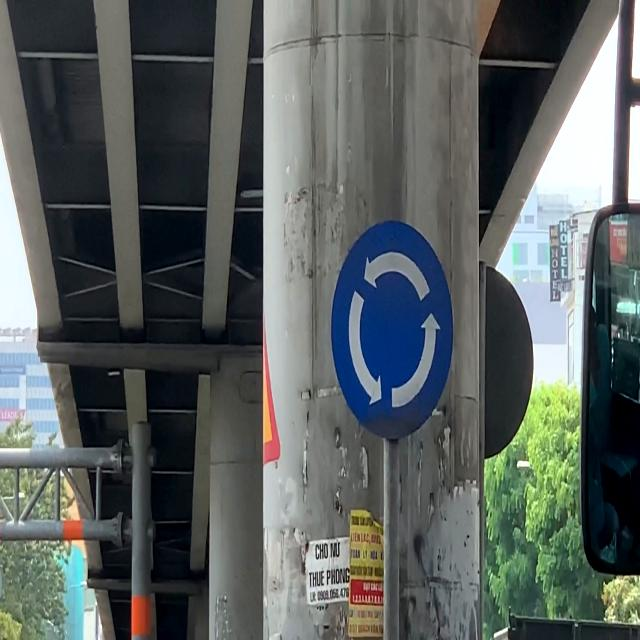R.303: (330, 219, 455, 441)
